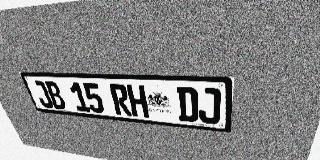1: (67, 82, 91, 112)
5: (82, 83, 106, 114)
B: (44, 81, 67, 110)
D: (176, 86, 198, 122)
H: (126, 84, 149, 118)
J: (198, 87, 221, 125), (31, 80, 55, 109)
R: (109, 84, 132, 116)
